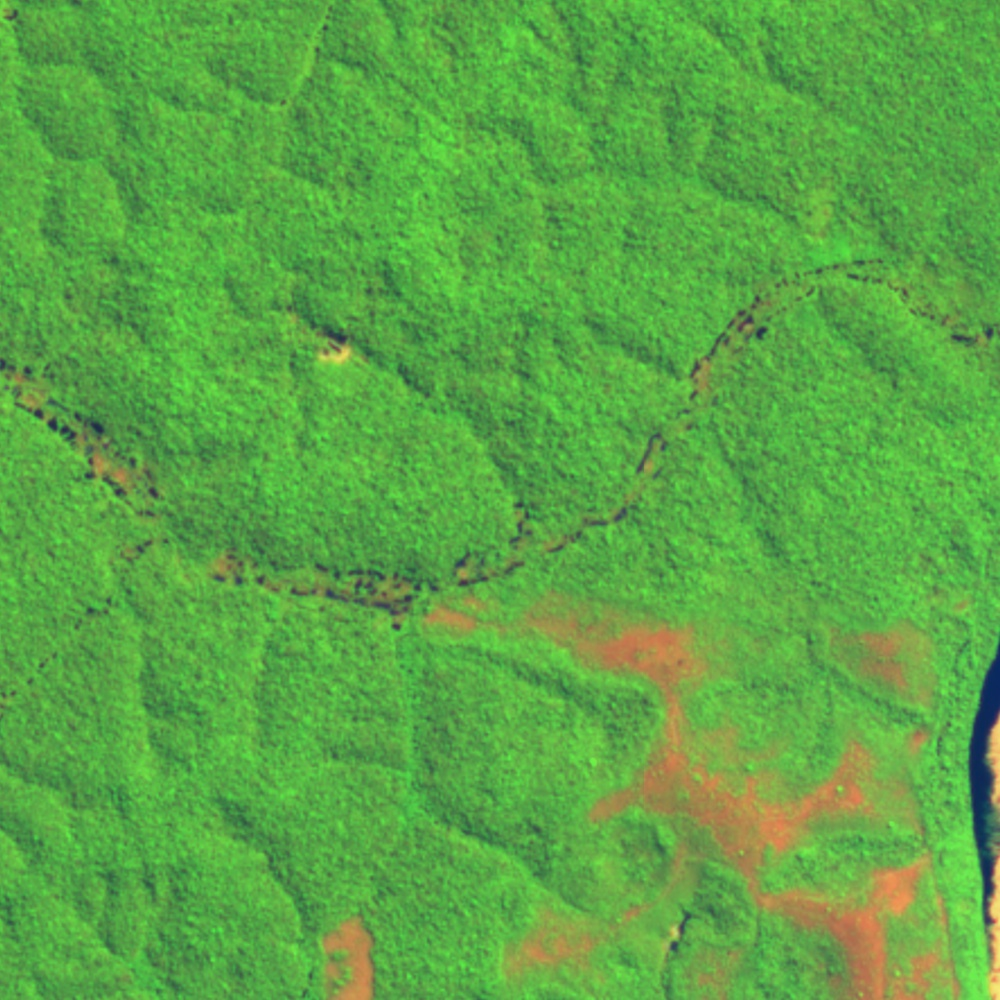illegal: (628, 256, 1000, 485), (1, 353, 181, 551), (205, 540, 446, 637), (445, 486, 645, 593), (1, 581, 129, 711), (278, 299, 371, 370), (107, 532, 179, 590), (666, 901, 700, 973)
